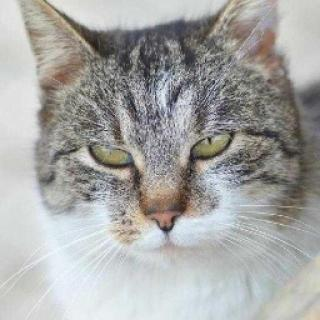cat: (19, 1, 297, 262)
nose: (143, 199, 188, 238)
